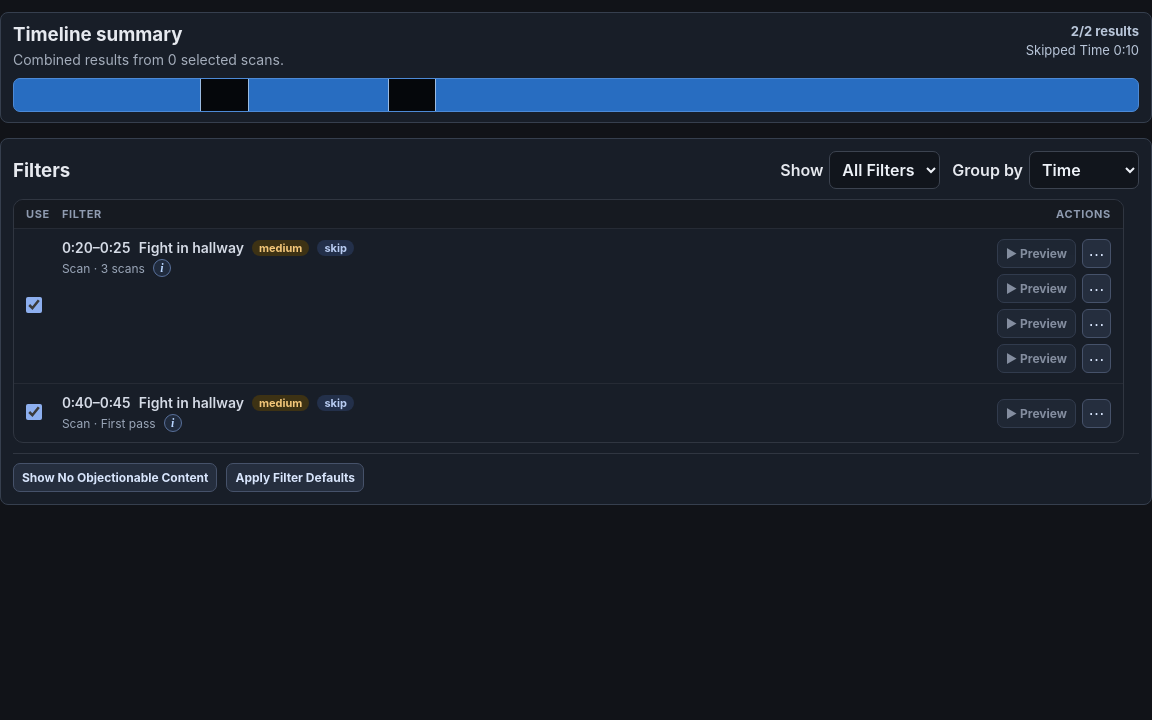
Test: shows a name or distinct contributing scan count and discloses their details
The image size is (1152, 720).
Check: the text "Scan #7" is not shown
Hover over the button named "Show scan details for 3 scans" at (162, 268), box [153,259,171,277]
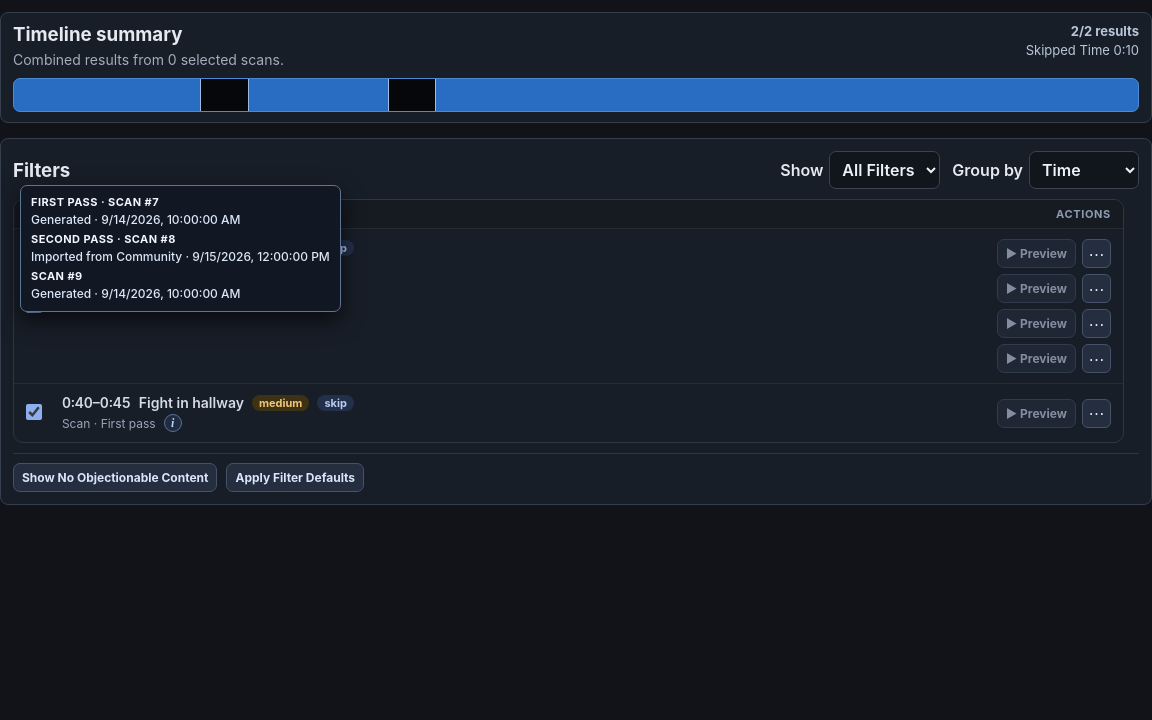
Check: the text "First pass · Scan #7" is shown once, box [31,195,159,209]
Check: the tooltip shows "Second pass · Scan #8", box [31,232,176,246]
Check: the tooltip shows "Imported from Community", box [31,249,182,264]
Press Escape
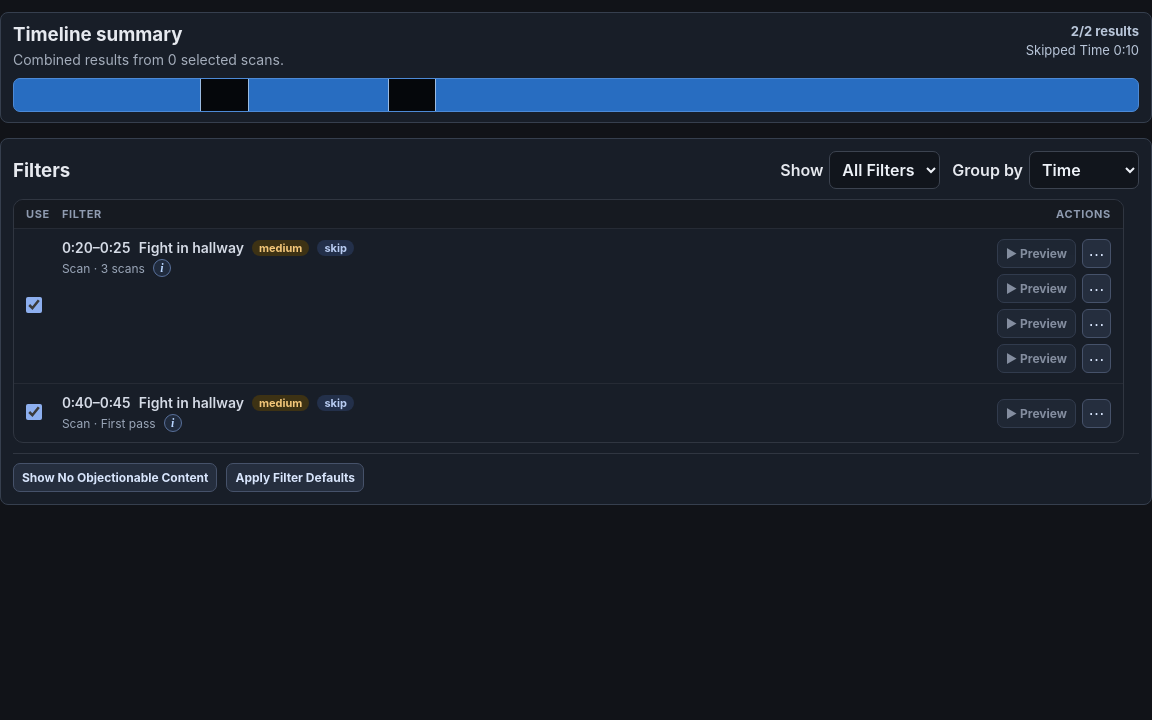
Check: the tooltip is gone
